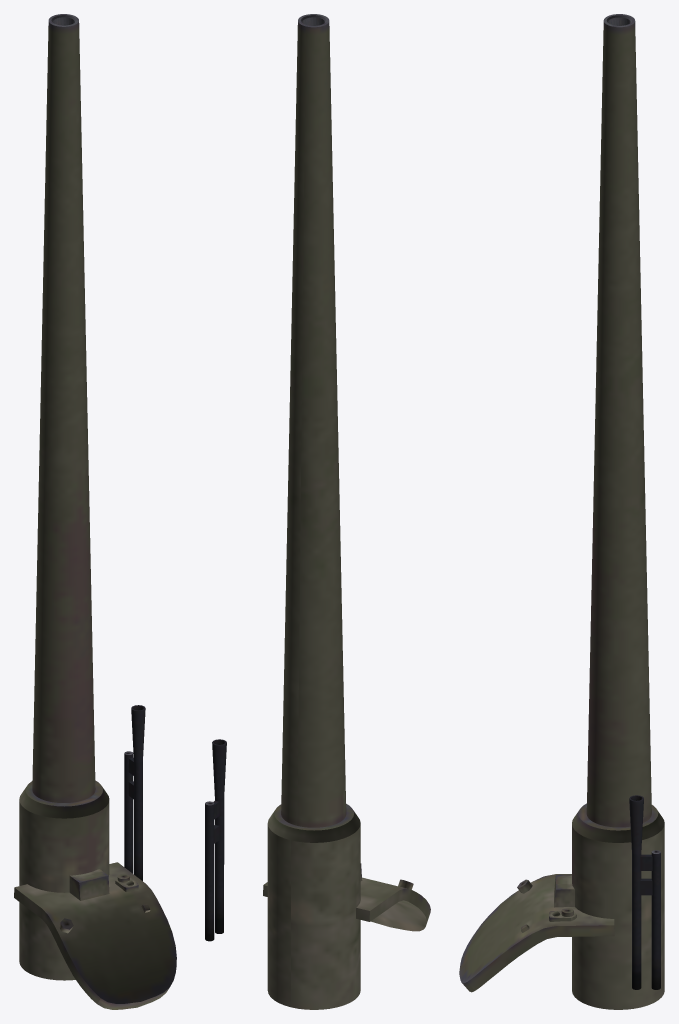
The model's file is Gun_02.glb.
The picture shows the model from 3 angles, left to right: view 1: azimuth 30°, elevation 25°; view 2: azimuth 150°, elevation 25°; view 3: azimuth 270°, elevation 25°; orthographic projection. The views are drawn at different scales.
Parts seen in each view (by area): view 1: set_0_group_0; view 2: set_0_group_0; view 3: set_0_group_0.
Boxes of the visible parts, x1,y1,x2,y2 form: set_0_group_0: (14,14,176,1009); set_0_group_0: (205,14,430,1009); set_0_group_0: (459,14,664,1009).
Size of the model in its own units: 0.2747 by 1.75 by 0.336.
Materials: 1 (1 with a texture image).
